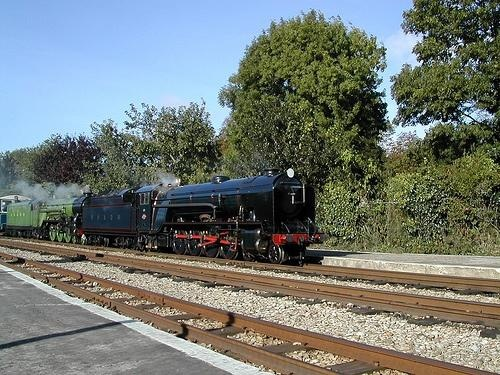train: (3, 170, 321, 260)
